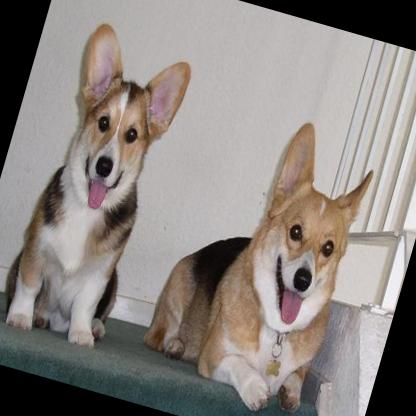Pembroke: (131, 94, 382, 416), (0, 13, 199, 357)
